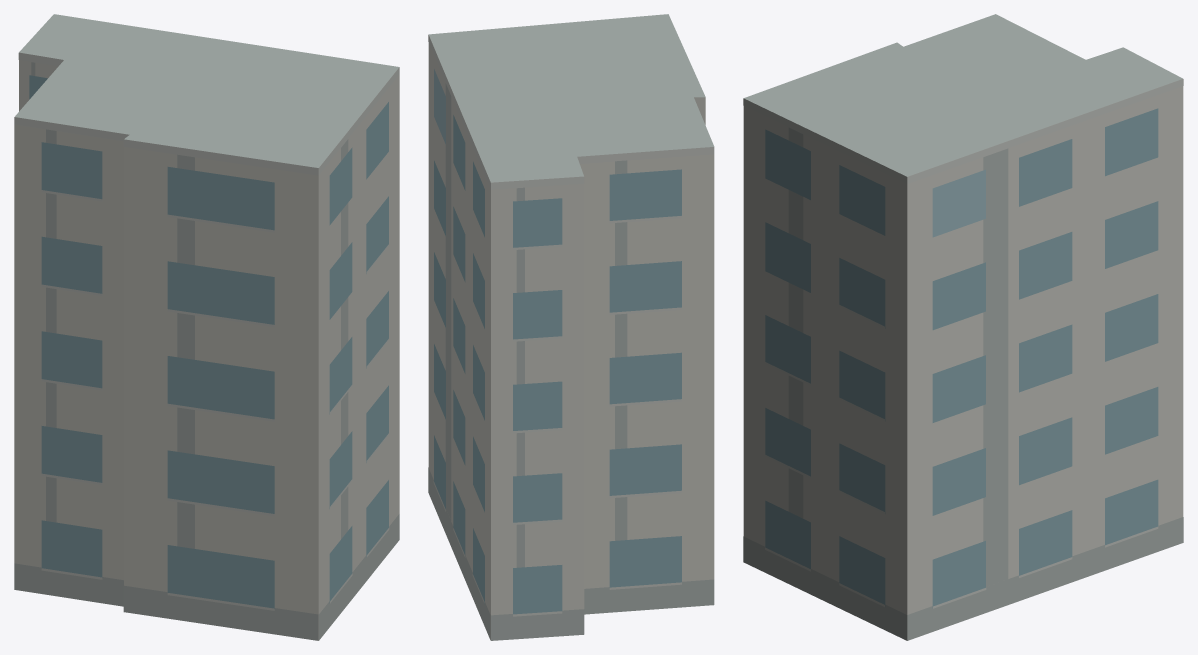
Rendered from survey-upis-32561684.glb.
3 views of the same model, side by side, from view 1: azimuth 30°, elevation 25°; view 2: azimuth 150°, elevation 25°; view 3: azimuth 270°, elevation 25° (orthographic). The views are drawn at different scales.
Parts seen in each view (by area): view 1: survey-upis-32561684.tmp; view 2: survey-upis-32561684.tmp; view 3: survey-upis-32561684.tmp.
Part boxes in pixels (x1,y1,x2,y2): survey-upis-32561684.tmp: (14,14,399,640); survey-upis-32561684.tmp: (428,14,714,640); survey-upis-32561684.tmp: (743,14,1183,640).
Bounding box in the file's own units: 11.53 × 15.3 × 13.15.
